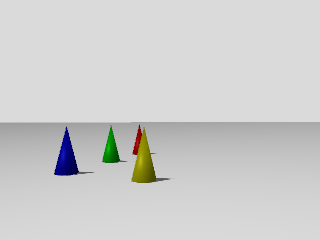blue: (53, 126, 81, 176)
green: (100, 124, 121, 166)
red: (133, 122, 141, 155)
yellow: (132, 127, 156, 185)
